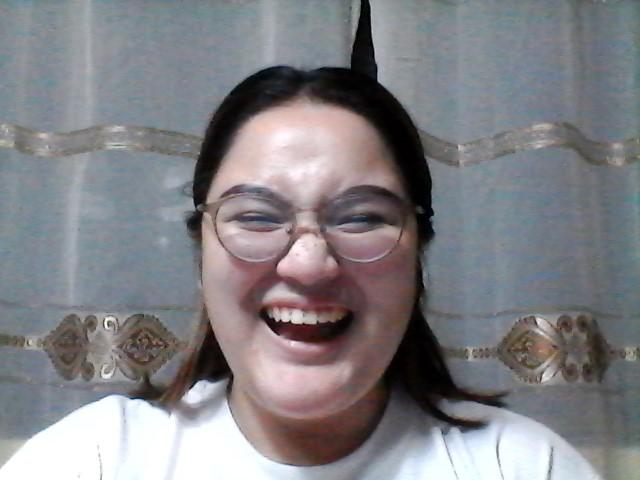senang: (206, 116, 433, 405)
